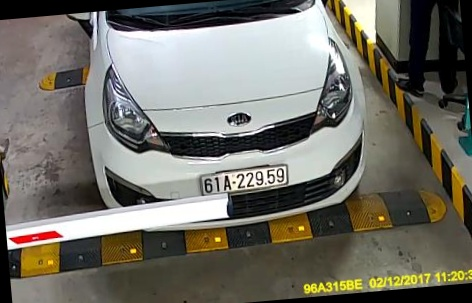plate: (197, 160, 296, 198)
